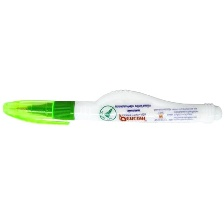correction_fluid: (1, 89, 223, 127)
